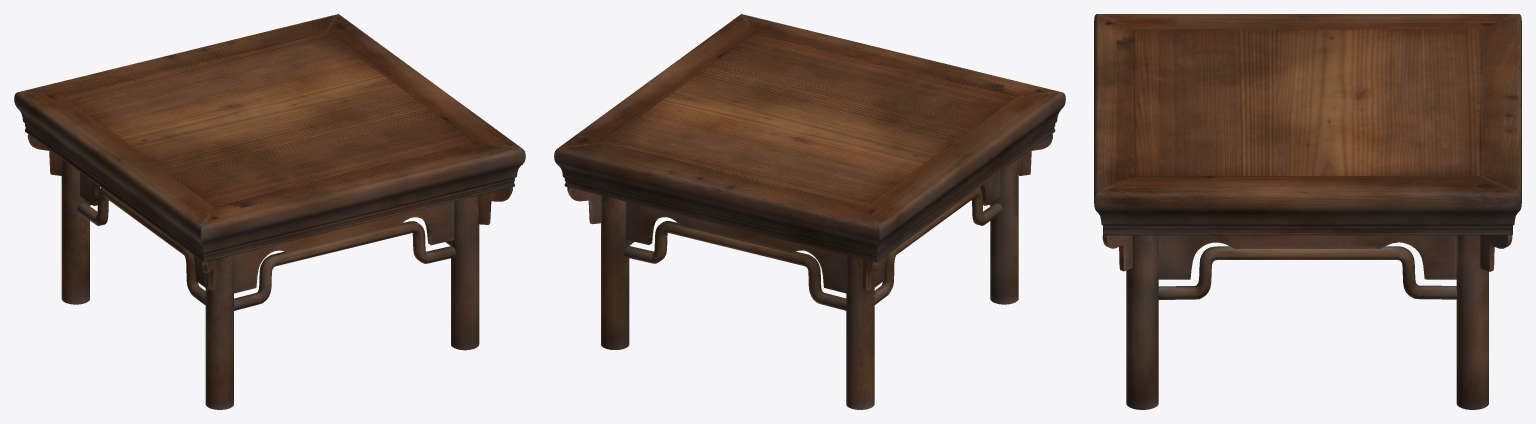
The model's file is chinese_tea_table-optimized.glb.
3 views of the same model, side by side, from view 1: azimuth 30°, elevation 25°; view 2: azimuth 150°, elevation 25°; view 3: azimuth 270°, elevation 25° (orthographic). The views are drawn at different scales.
Parts seen in each view (by area): view 1: chinese_tea_table; view 2: chinese_tea_table; view 3: chinese_tea_table.
Part boxes in pixels (x1,y1,x2,y2): chinese_tea_table: (14,14,525,409); chinese_tea_table: (554,14,1065,409); chinese_tea_table: (1094,14,1521,409).
Size of the model in its own units: 0.8413 by 0.4987 by 0.8357.
1 material, 1 textured.
